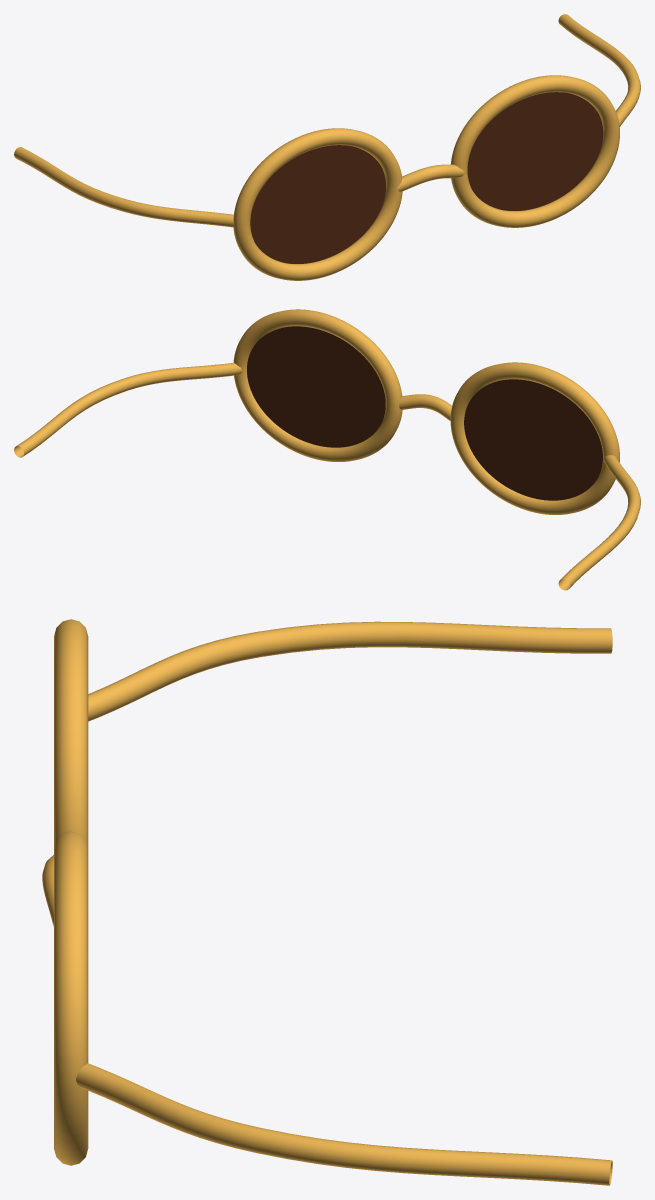
File: sunglasses.glb
The picture shows the model from 3 angles, top to bottom: view 1: azimuth 30°, elevation 25°; view 2: azimuth 150°, elevation 25°; view 3: azimuth 270°, elevation 25°; orthographic projection. The views are drawn at different scales.
Parts seen in each view (by area): view 1: tinted_lens.005, tinted_lens.004, frame.010, frame.011, temple.010, temple.011, nose_bridge.005; view 2: tinted_lens.005, tinted_lens.004, frame.011, frame.010, temple.011, temple.010, nose_bridge.005; view 3: temple.011, temple.010, frame.011, frame.010.
Boxes of the visible parts, x1,y1,x2,y2 form: tinted_lens.005: [467, 92, 603, 210]; tinted_lens.004: [250, 145, 385, 263]; frame.010: [233, 128, 402, 280]; frame.011: [450, 75, 619, 227]; temple.010: [14, 147, 233, 227]; temple.011: [558, 14, 640, 126]; nose_bridge.005: [397, 164, 464, 191]; tinted_lens.005: [247, 326, 385, 447]; tinted_lens.004: [464, 379, 602, 500]; frame.011: [233, 309, 402, 461]; frame.010: [450, 362, 619, 514]; temple.011: [14, 362, 242, 457]; temple.010: [558, 455, 640, 590]; nose_bridge.005: [399, 394, 451, 420]; temple.011: [76, 1063, 612, 1185]; temple.010: [88, 621, 612, 721]; frame.011: [54, 831, 88, 1165]; frame.010: [54, 619, 88, 847].
Size of the model in its own units: 1.2 by 0.302 by 0.5345.
